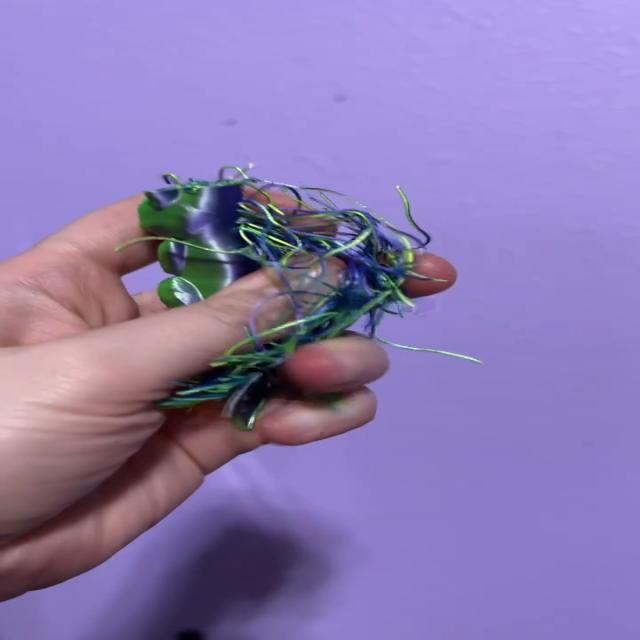spaghetti: (150, 156, 436, 419)
